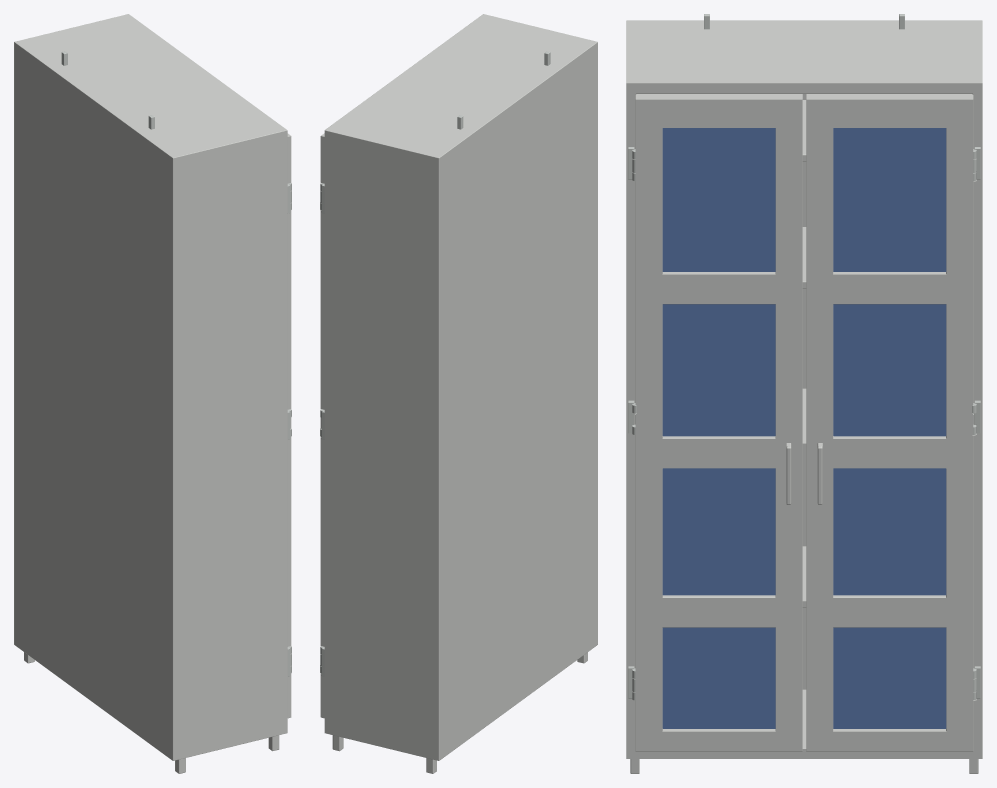
The picture shows the model from 3 angles, left to right: view 1: azimuth 30°, elevation 25°; view 2: azimuth 150°, elevation 25°; view 3: azimuth 270°, elevation 25°; orthographic projection. The views are drawn at different scales.
Parts seen in each view (by area): view 1: visual_part_000_0_1, visual_part_002_0_2, visual_part_000_0_0; view 2: visual_part_000_0_1, visual_part_001_0_2, visual_part_000_0_0; view 3: visual_part_001_0_1, visual_part_002_0_1, visual_part_001_0_2, visual_part_002_0_2, visual_part_000_0_1, visual_part_000_0_0.
Part boxes in pixels (left/top/right/bottom): visual_part_000_0_1: left=14, top=14, right=287, bottom=773; visual_part_002_0_2: left=287, top=133, right=291, bottom=718; visual_part_000_0_0: left=61, top=51, right=291, bottom=676; visual_part_000_0_1: left=324, top=14, right=597, bottom=773; visual_part_001_0_2: left=320, top=133, right=324, bottom=718; visual_part_000_0_0: left=320, top=51, right=550, bottom=676; visual_part_001_0_1: left=833, top=128, right=946, bottom=728; visual_part_002_0_1: left=662, top=128, right=775, bottom=728; visual_part_001_0_2: left=806, top=94, right=976, bottom=751; visual_part_002_0_2: left=632, top=94, right=802, bottom=751; visual_part_000_0_1: left=626, top=20, right=982, bottom=773; visual_part_000_0_0: left=628, top=14, right=980, bottom=700.
Bounding box in the file's own units: 0.407 × 1.84 × 0.84.
